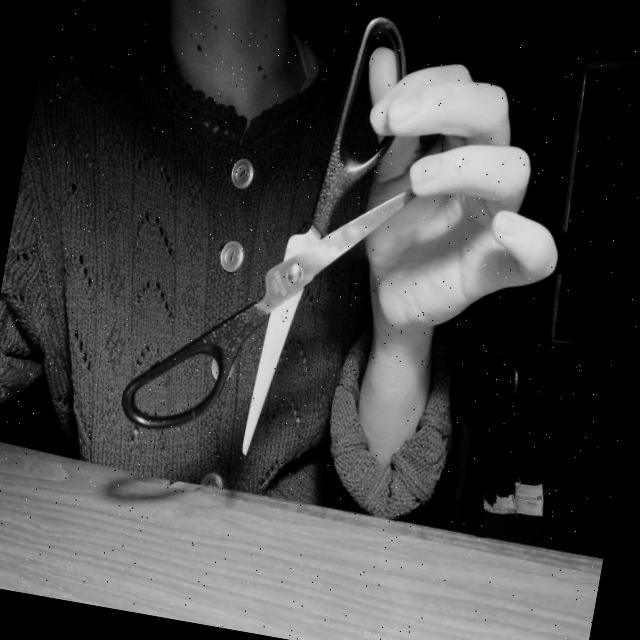scissors: (109, 8, 441, 479)
